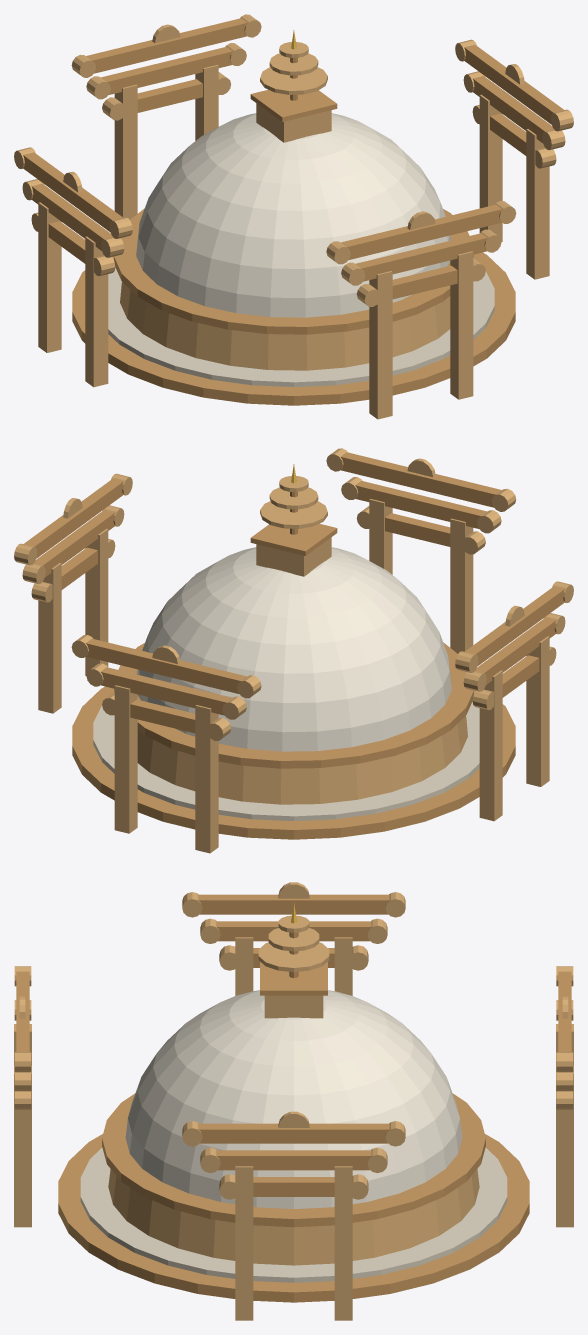
Rendered from sanchi-stupa.glb.
The picture shows the model from 3 angles, top to bottom: view 1: azimuth 30°, elevation 25°; view 2: azimuth 150°, elevation 25°; view 3: azimuth 270°, elevation 25°; orthographic projection. The views are drawn at different scales.
Parts seen in each view (by area): view 1: sanchi-stupa; view 2: sanchi-stupa; view 3: sanchi-stupa.
Boxes of the visible parts, bbox=[...] form: sanchi-stupa: bbox=[14, 14, 573, 419]; sanchi-stupa: bbox=[14, 448, 573, 853]; sanchi-stupa: bbox=[14, 882, 573, 1320].
Size of the model in its own units: 6.75 by 4 by 6.75.
